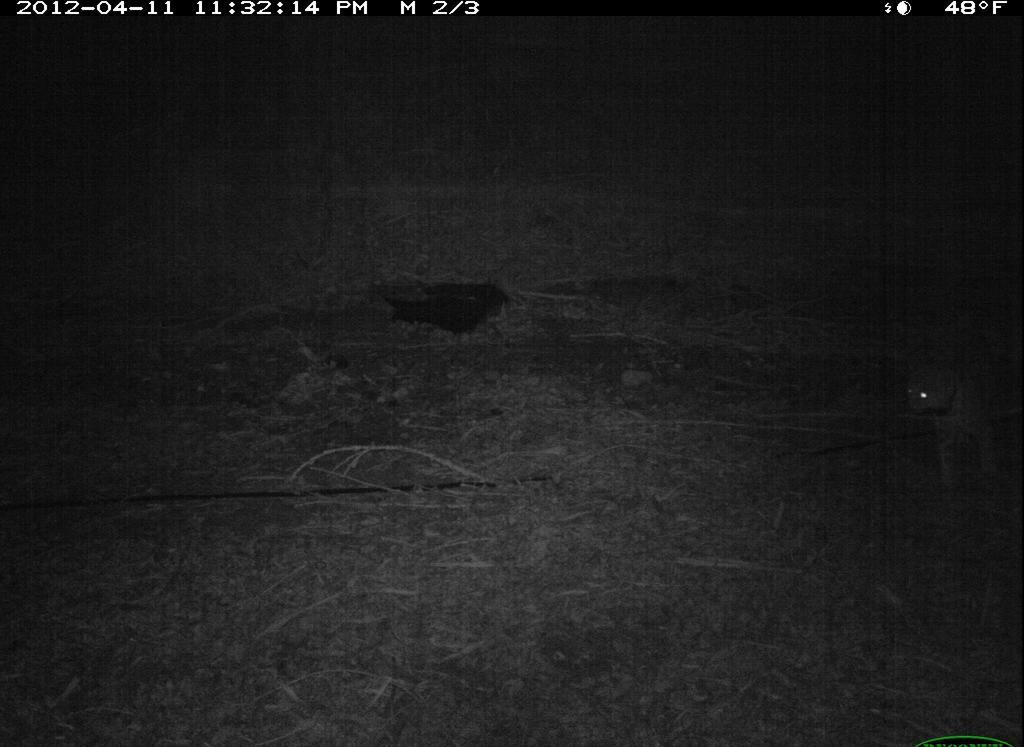bobcat: (891, 347, 1018, 502)
